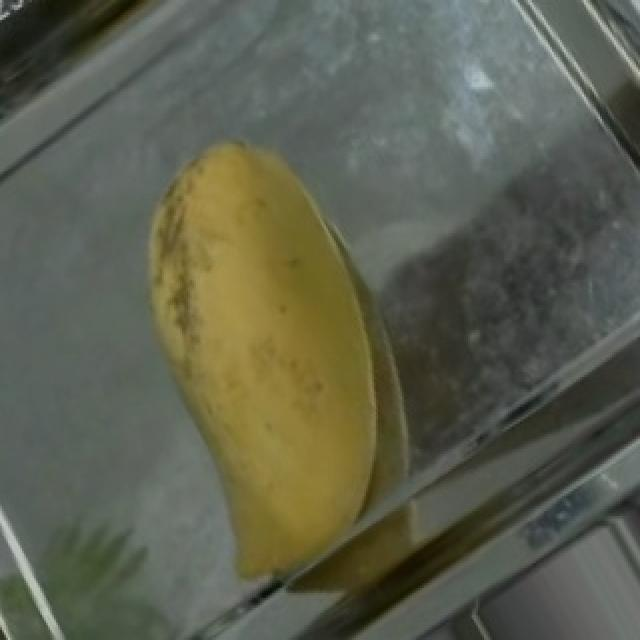fruit: (90, 102, 468, 563)
